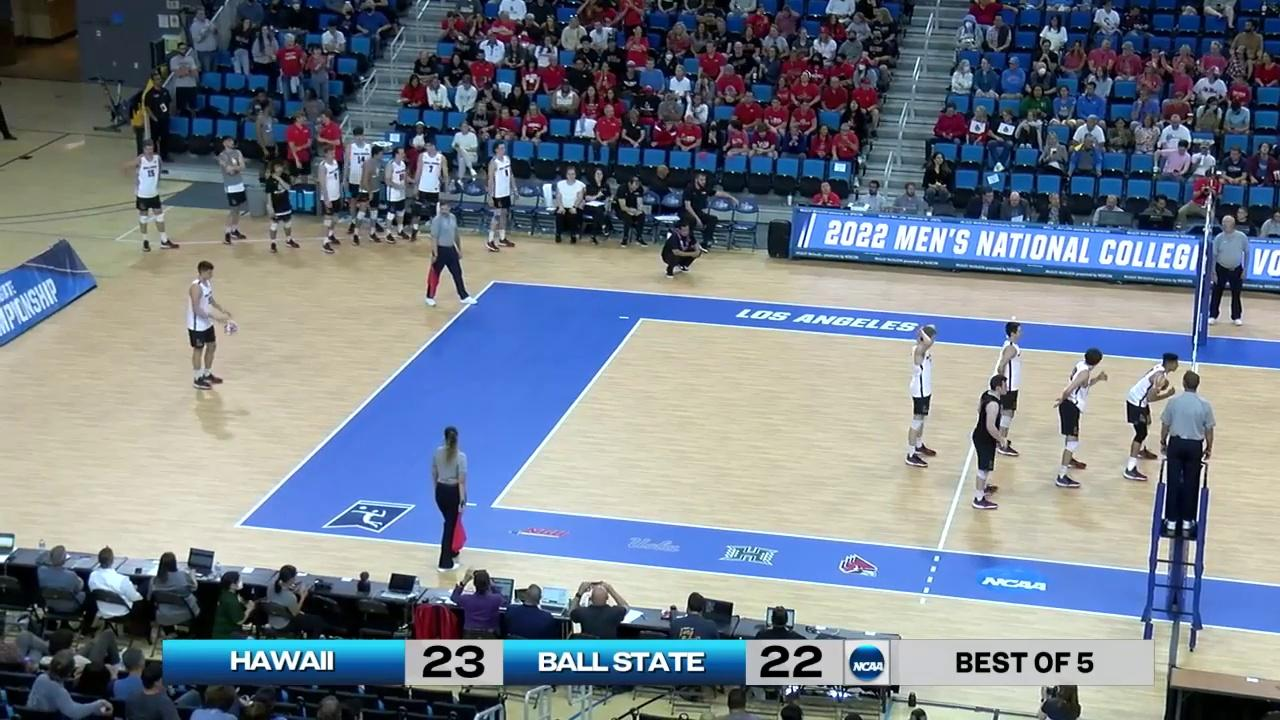player: (1051, 349, 1103, 490), (187, 264, 240, 390), (1125, 353, 1176, 483), (968, 377, 1008, 512), (991, 321, 1024, 458), (908, 324, 939, 469)
refree: (1157, 372, 1214, 534), (422, 198, 480, 307), (430, 426, 470, 567), (1208, 215, 1246, 328)
